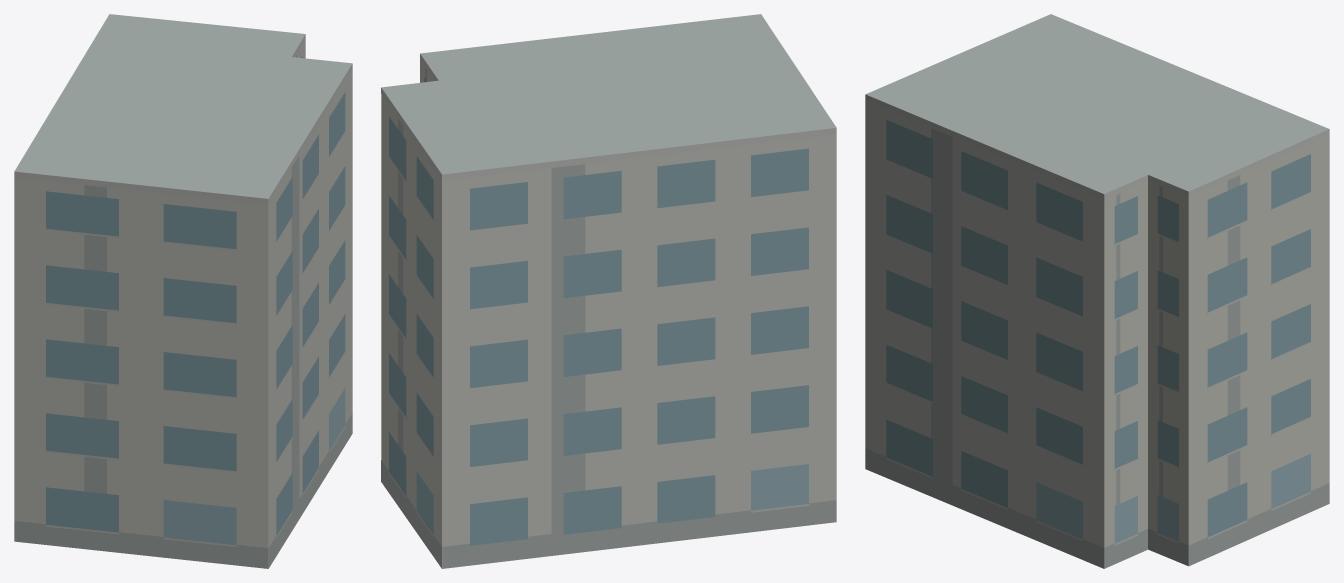
Rendered from survey-upis-32588348.glb.
3 renders of one model, left to right at view 1: azimuth 30°, elevation 25°; view 2: azimuth 150°, elevation 25°; view 3: azimuth 270°, elevation 25°, orthographic. The views are drawn at different scales.
Parts seen in each view (by area): view 1: survey-upis-32588348.tmp; view 2: survey-upis-32588348.tmp; view 3: survey-upis-32588348.tmp.
Part boxes in pixels (x1,y1,x2,y2): survey-upis-32588348.tmp: [14, 14, 352, 568]; survey-upis-32588348.tmp: [381, 14, 836, 568]; survey-upis-32588348.tmp: [865, 14, 1329, 568].
Bounding box in the file's own units: 15.32 × 14.85 × 16.68.
